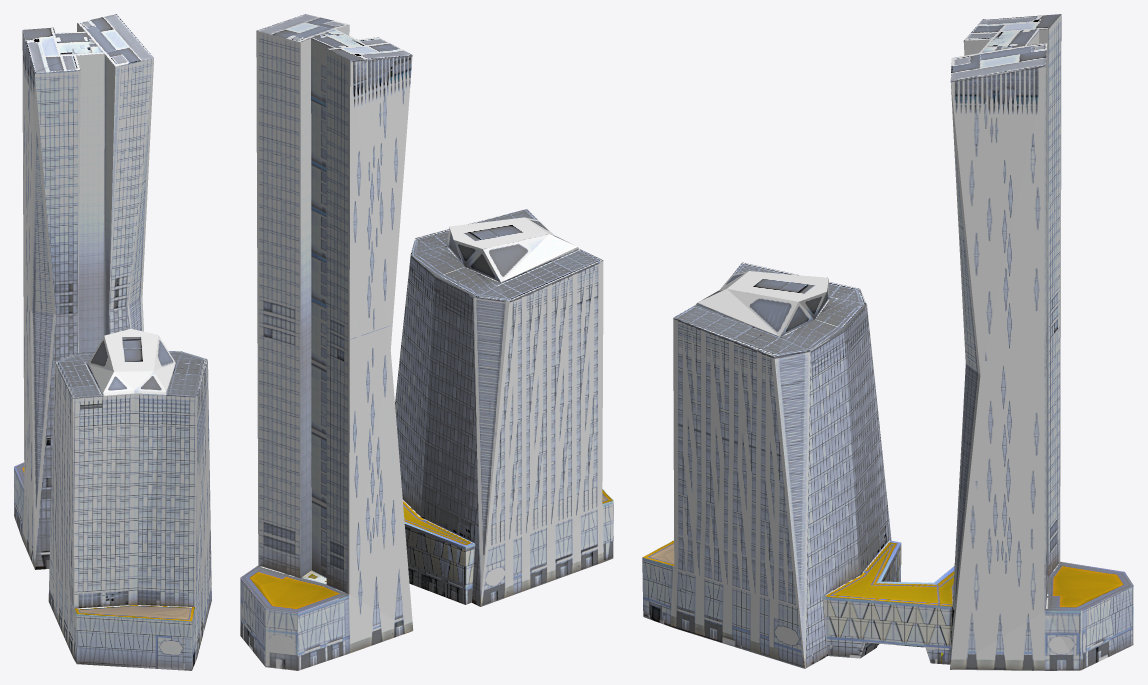
Rendered from 409_PLACED.glb.
The picture shows the model from 3 angles, left to right: view 1: azimuth 30°, elevation 25°; view 2: azimuth 150°, elevation 25°; view 3: azimuth 270°, elevation 25°; orthographic projection. The views are drawn at different scales.
Parts seen in each view (by area): view 1: 4.002; view 2: 4.002; view 3: 4.002.
Boxes of the visible parts, <box> form: 4.002: <box>14,14,211,670</box>; 4.002: <box>240,14,613,670</box>; 4.002: <box>642,14,1133,670</box>.
Bounding box in the file's own units: 64.68 × 182 × 133.
Materials: 1 (1 with a texture image).
